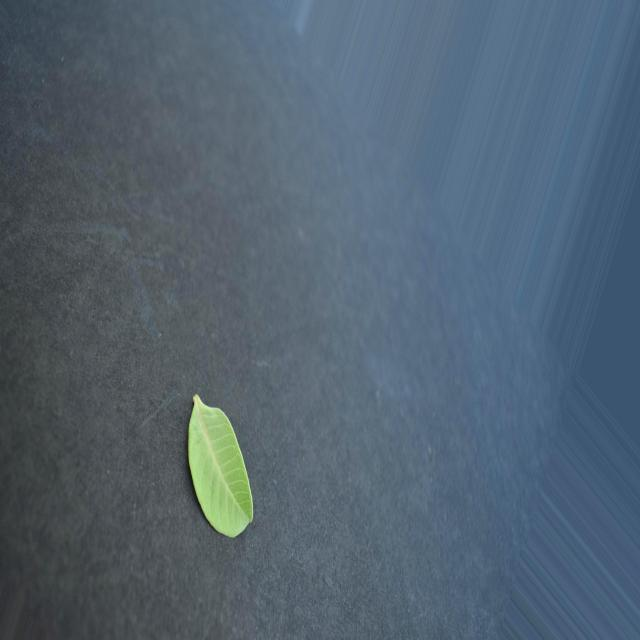Healthy: (189, 396, 252, 538)
